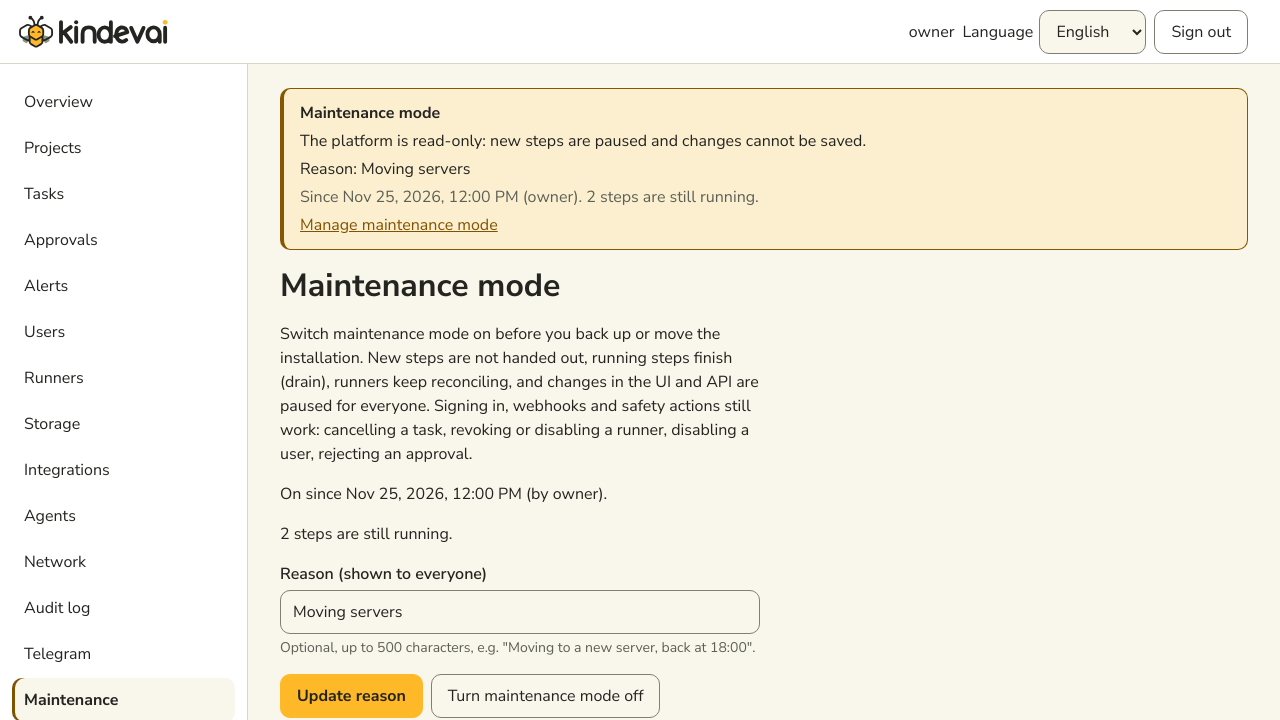
Test: maintenance mode › explains a change refused in maintenance mode
Click the button "Update reason" at x=351, y=696, box [280, 674, 423, 718]
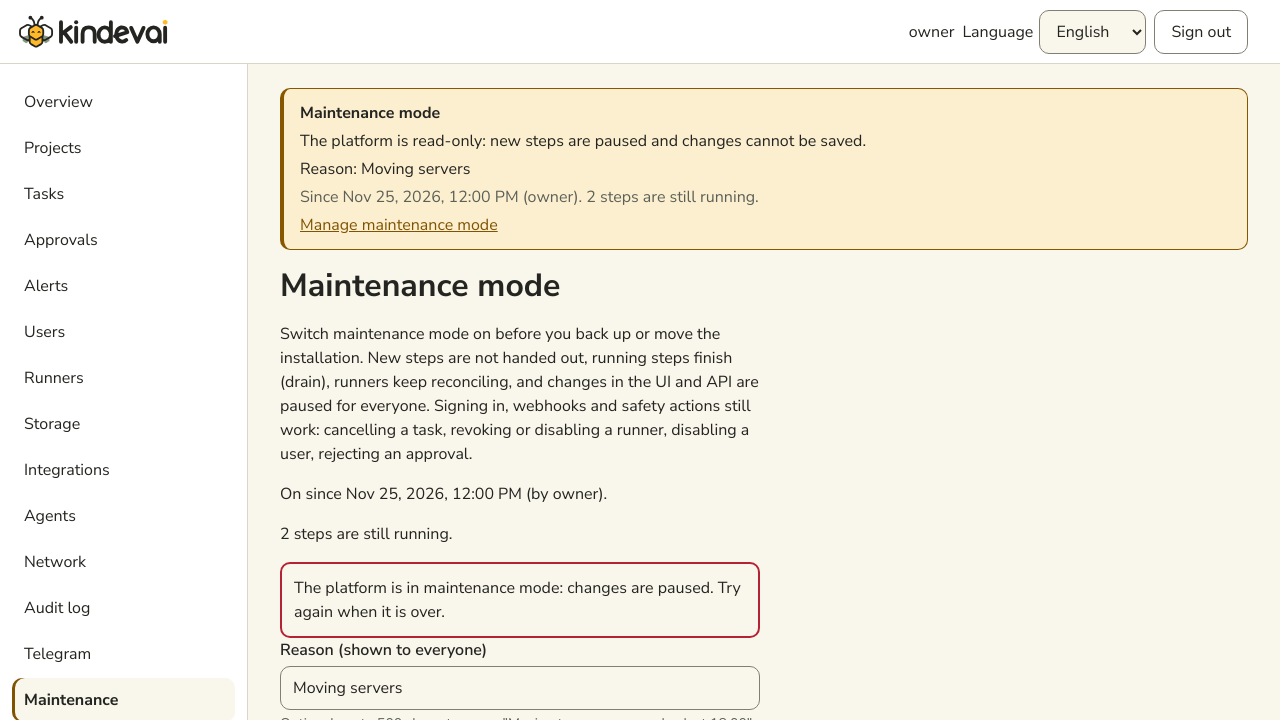
Result: the text "changes are paused. Try again" is shown at [294, 577, 741, 623]
